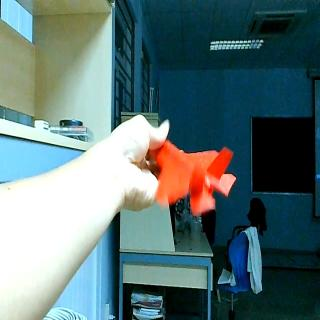Jet: (156, 137, 238, 216)
